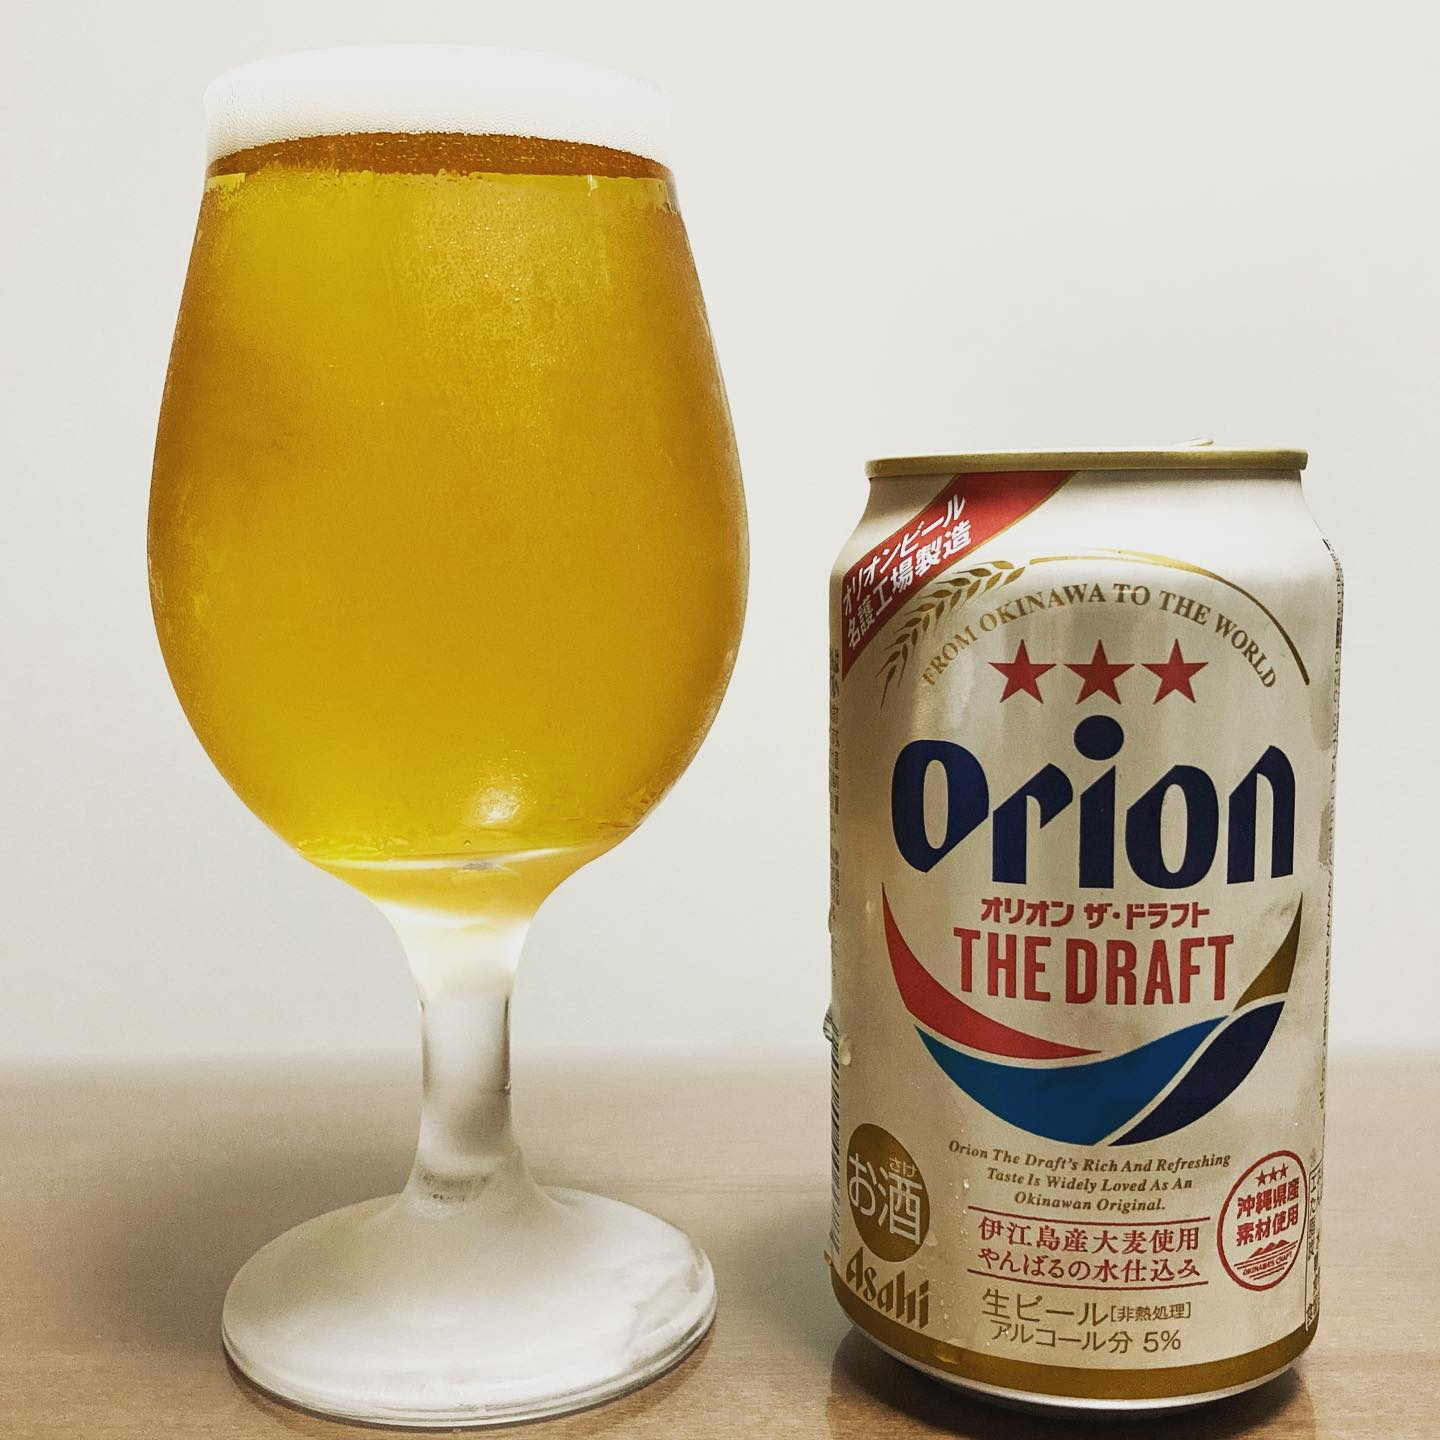alcohol: (137, 30, 756, 1437), (820, 431, 1349, 1435)
